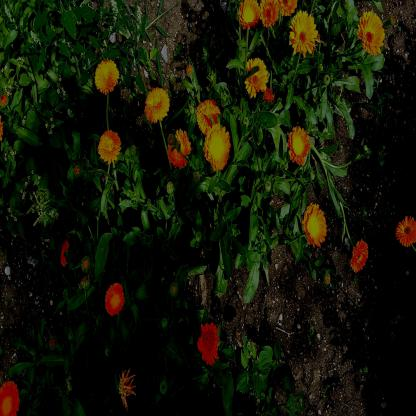marigold: (290, 12, 318, 57), (359, 10, 385, 53), (304, 203, 327, 245), (206, 128, 228, 165), (287, 125, 310, 160), (245, 58, 266, 96), (97, 131, 121, 163), (94, 60, 118, 91), (146, 89, 168, 122), (394, 215, 416, 248), (199, 325, 218, 363), (169, 132, 191, 163), (0, 381, 20, 415), (196, 102, 218, 129), (105, 284, 124, 314), (238, 1, 258, 29), (352, 240, 368, 274), (261, 0, 279, 28)
